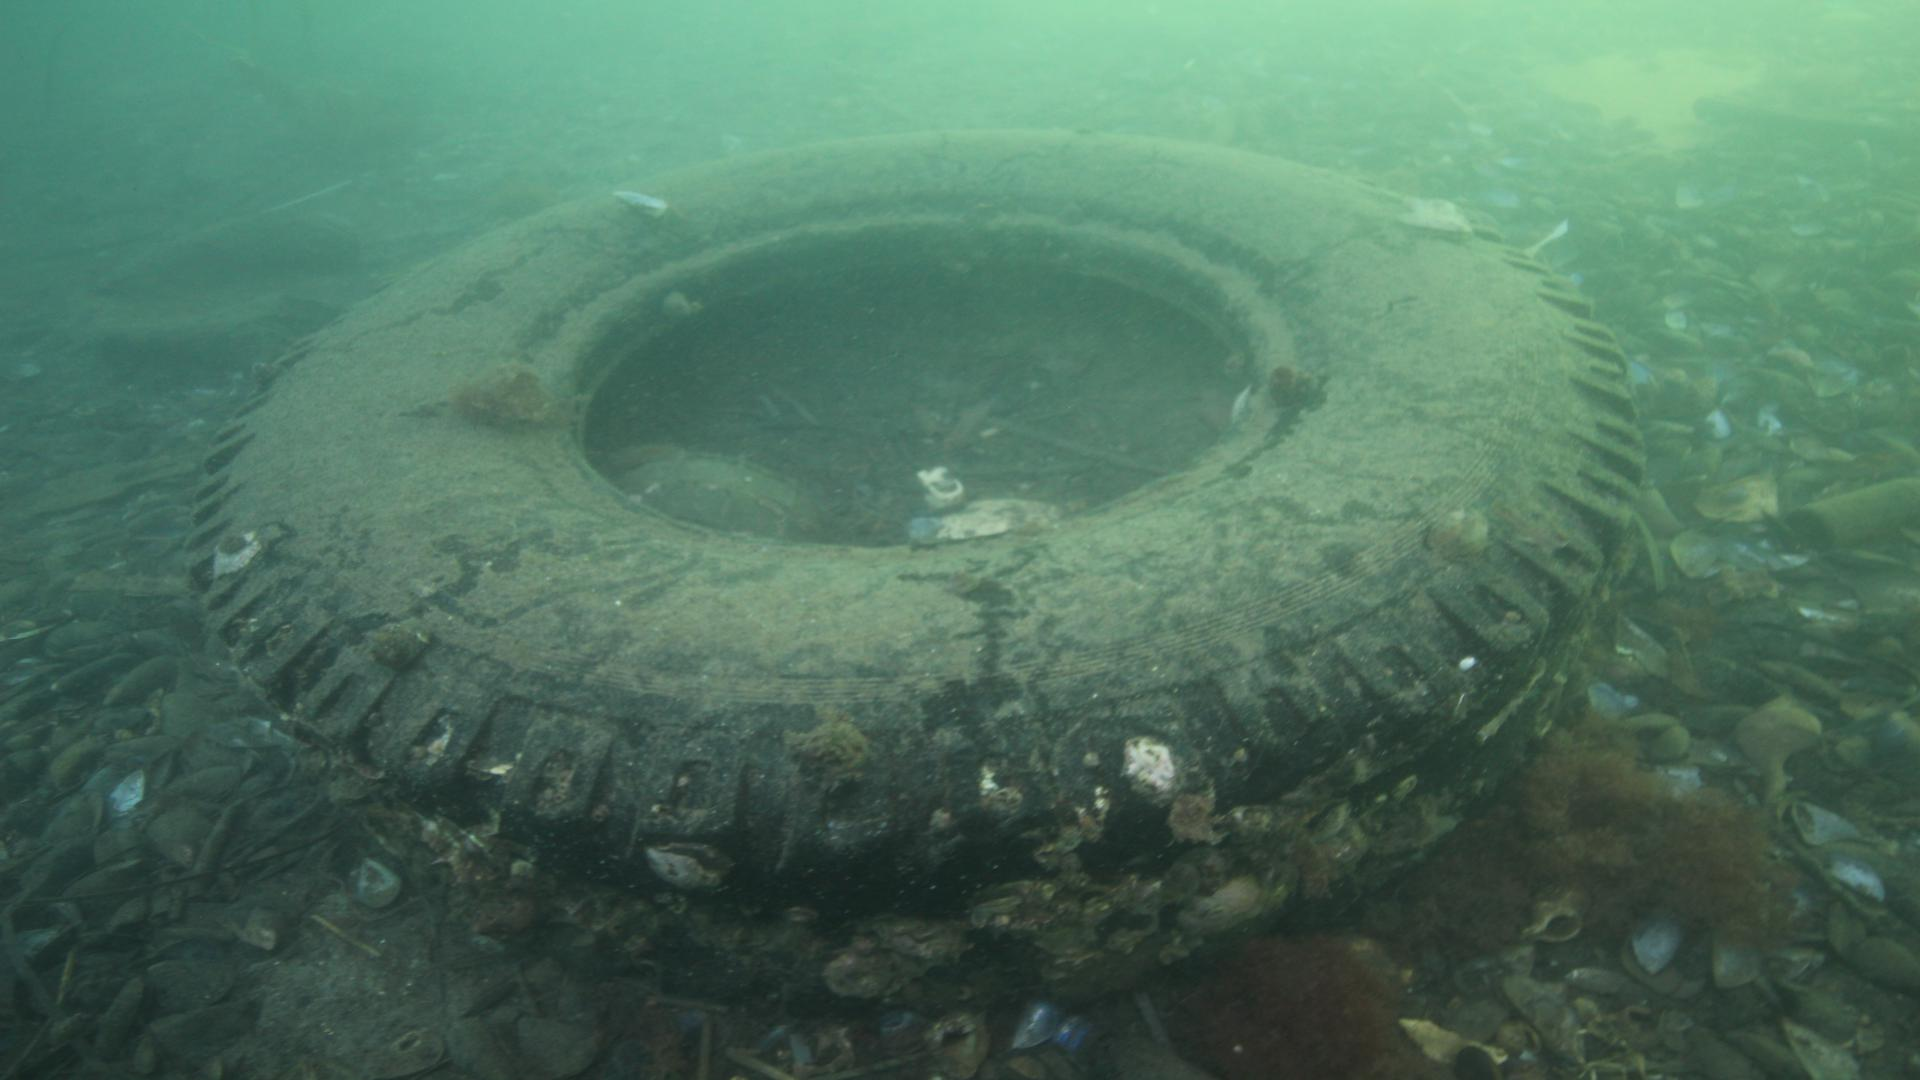tire: (187, 127, 1644, 1006)
